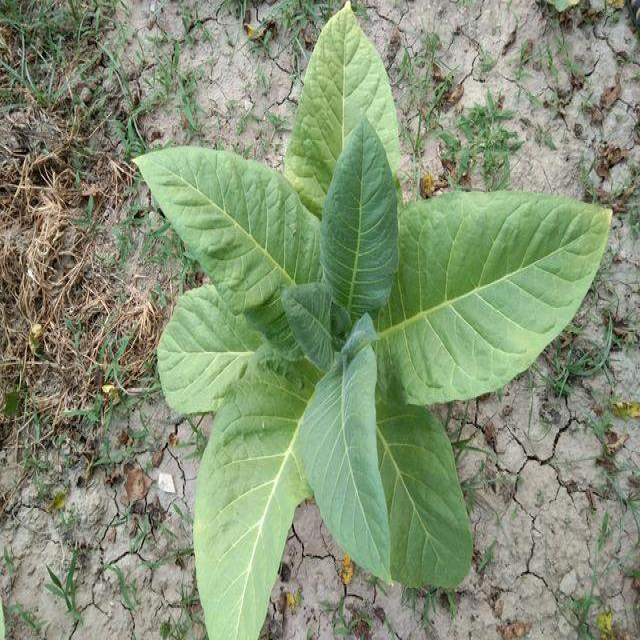crop: (134, 1, 609, 640)
